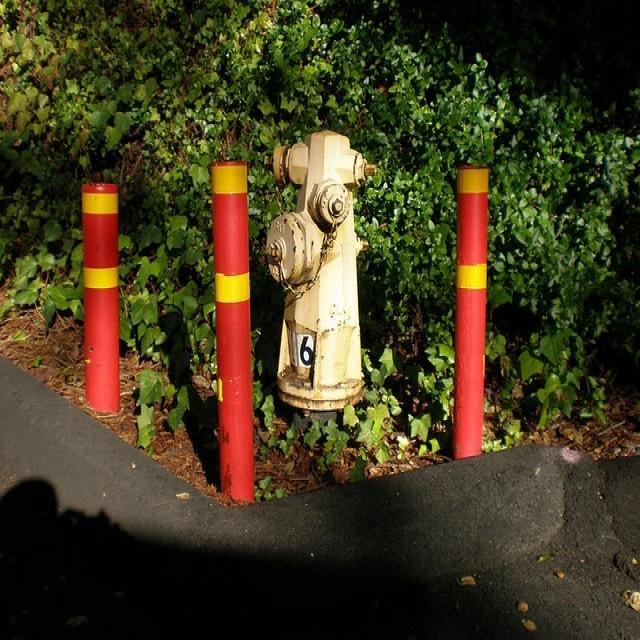fire_hydrant: (274, 93, 444, 489)
